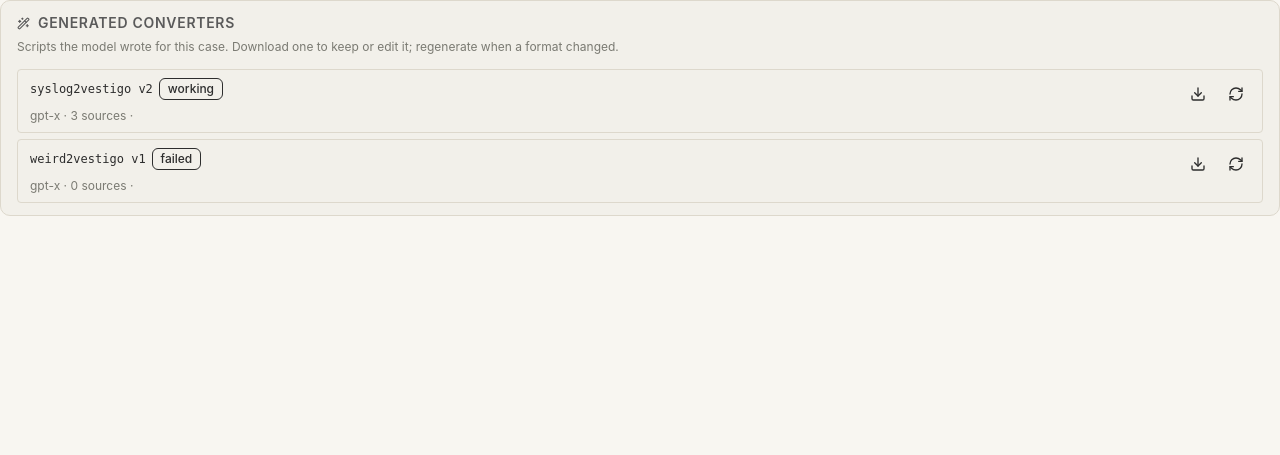
Test: GeneratedConvertersPanel › offers regenerate with the capability and shows attempts on expand
Expected: the button named "Regenerate syslog2vestigo" is shown, [1218,76,1254,112]
Click the text "weird2vestigo v1". click: click(88, 158)
box: [30,150,146,166]
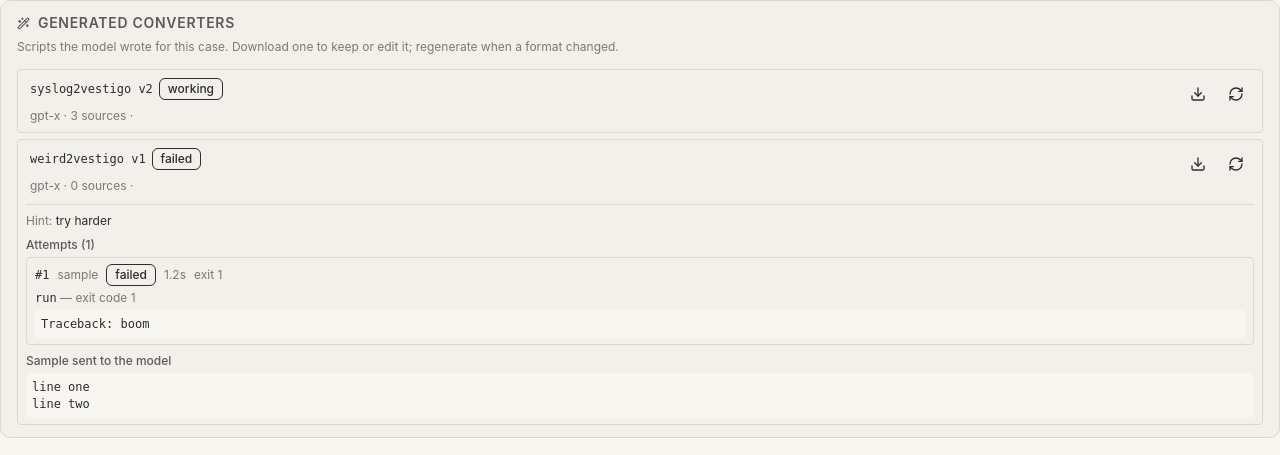
Expected: the text "Attempts (1)" is shown, [26,236,95,252]
Expected: the text "run" is shown, [35,290,57,304]
Expected: the text "— exit code 1" is shown, [57,290,136,304]
